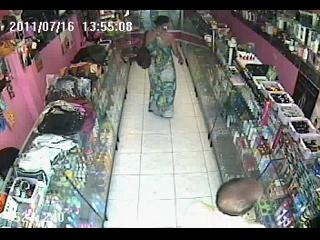Normal: (140, 15, 183, 118), (136, 30, 152, 70)
